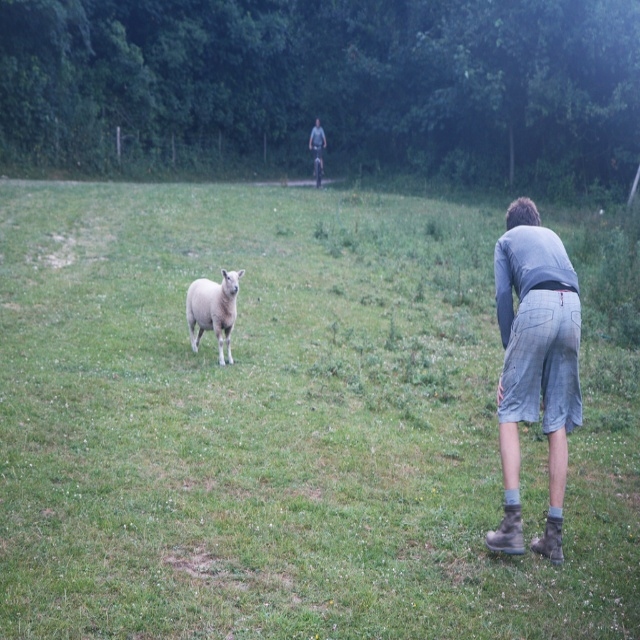Sheep: (188, 271, 245, 364)
